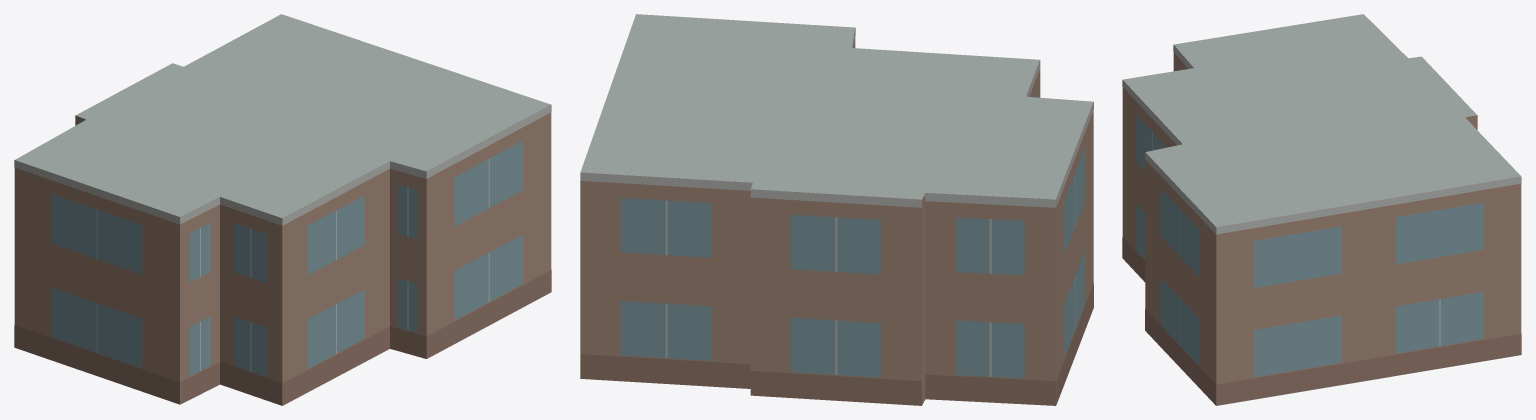
File: survey-upis-32854679.glb
3 views of the same model, side by side, from view 1: azimuth 30°, elevation 25°; view 2: azimuth 150°, elevation 25°; view 3: azimuth 270°, elevation 25° (orthographic). The views are drawn at different scales.
Visible parts, largest first — view 1: survey-upis-32854679.tmp; view 2: survey-upis-32854679.tmp; view 3: survey-upis-32854679.tmp.
Boxes of the visible parts, <box> form: survey-upis-32854679.tmp: <box>14,14,551,405</box>; survey-upis-32854679.tmp: <box>580,14,1093,405</box>; survey-upis-32854679.tmp: <box>1122,14,1521,405</box>.
Size of the model in its own units: 15.65 by 6.1 by 12.37.
